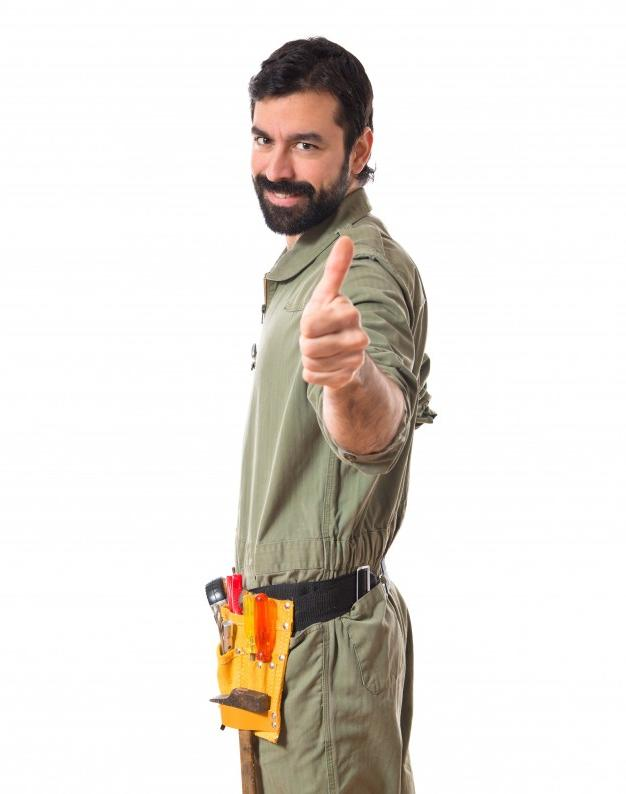thumbsup: (300, 236, 370, 388)
